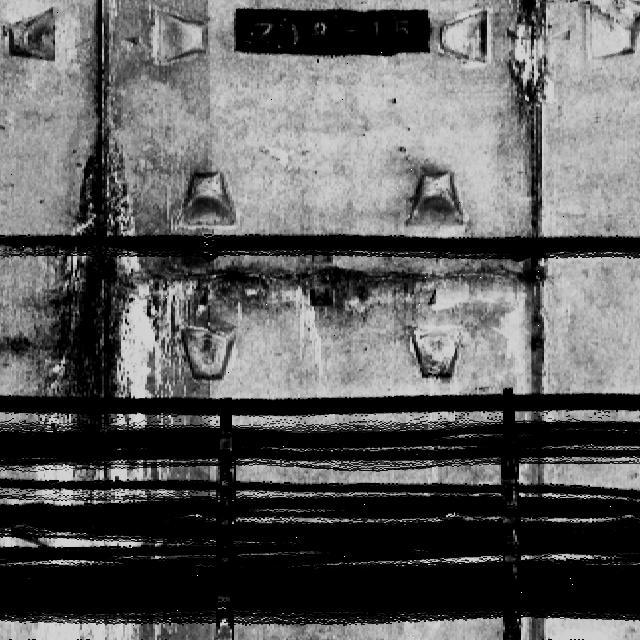leakage: (28, 14, 158, 517)
